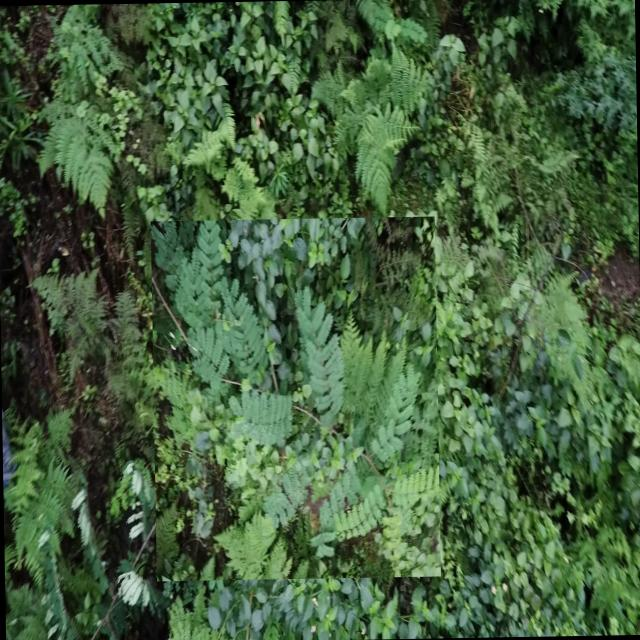Mysore-Thorn-Weed: (150, 216, 440, 581)
